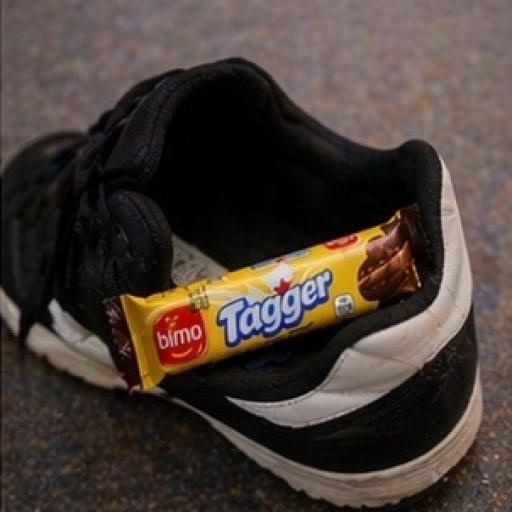tagger: (100, 210, 499, 429)
